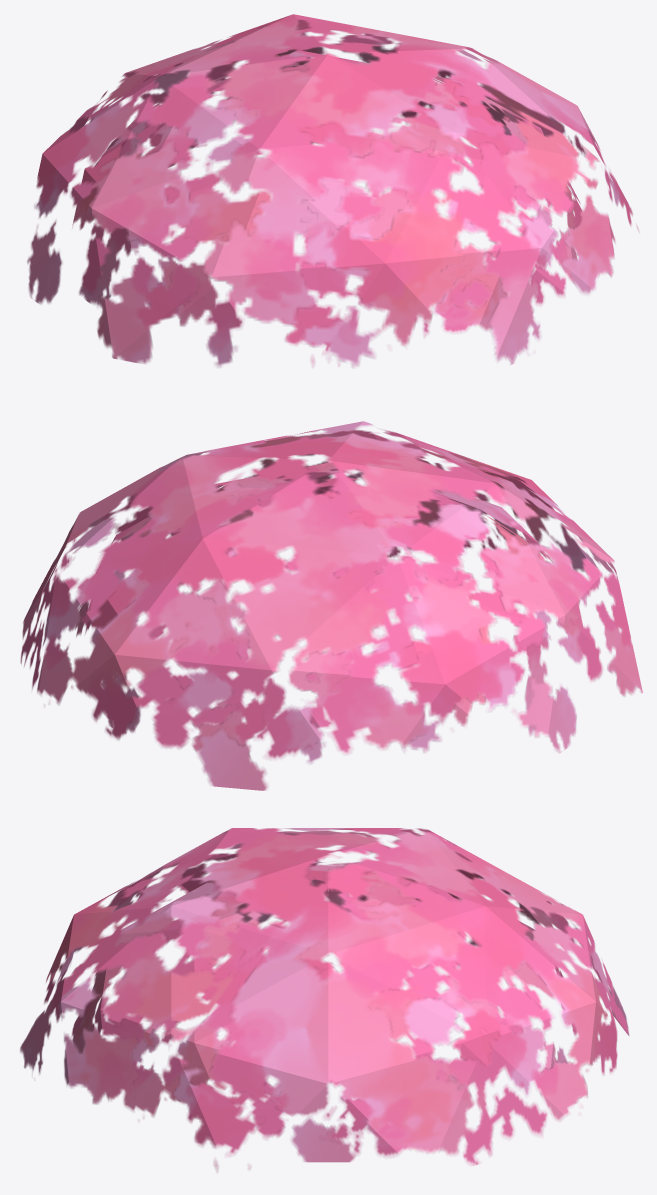
The model's file is Plant_16.glb.
The picture shows the model from 3 angles, top to bottom: view 1: azimuth 30°, elevation 25°; view 2: azimuth 150°, elevation 25°; view 3: azimuth 270°, elevation 25°; orthographic projection. The views are drawn at different scales.
Parts seen in each view (by area): view 1: Plant_16; view 2: Plant_16; view 3: Plant_16.
Boxes of the visible parts, <box> form: Plant_16: <box>27,14,639,367</box>; Plant_16: <box>20,421,642,790</box>; Plant_16: <box>20,828,629,1171</box>.
Bounding box in the file's own units: 0.8776 × 0.3231 × 0.9227.
Materials: 1 (1 with a texture image).
